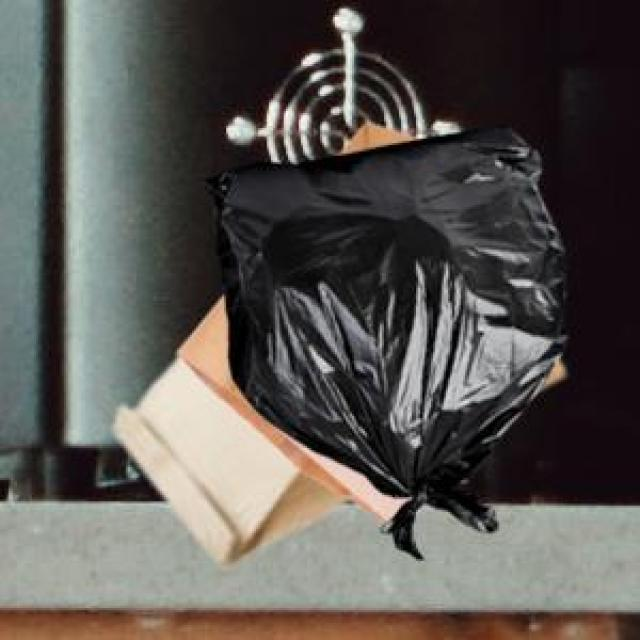miscellaneous trash: (203, 122, 563, 555)
paper: (173, 120, 414, 518), (111, 352, 391, 561)
